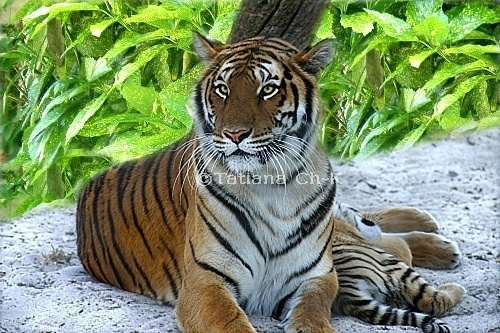tigre: (74, 28, 344, 332), (329, 225, 463, 332)
